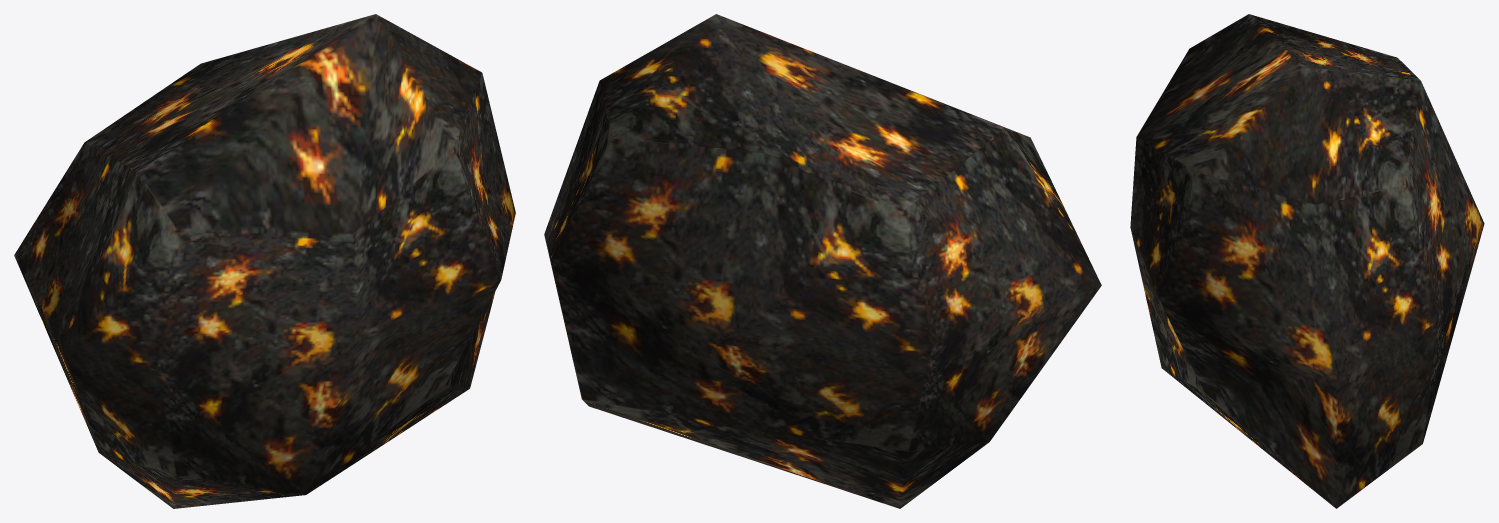
The model's file is asteroid_moltenrock_radial_s02_l2.fbx.
3 views of the same model, side by side, from view 1: azimuth 30°, elevation 25°; view 2: azimuth 150°, elevation 25°; view 3: azimuth 270°, elevation 25° (orthographic). The views are drawn at different scales.
Visible parts, largest first — view 1: mesh_node; view 2: mesh_node; view 3: mesh_node.
Boxes of the visible parts, x1,y1,x2,y2 form: mesh_node: (14,14,515,508); mesh_node: (544,14,1101,508); mesh_node: (1130,14,1484,508).
Size of the model in its own units: 7.04 by 5.97 by 4.51.
Materials: 1 (1 with a texture image).
